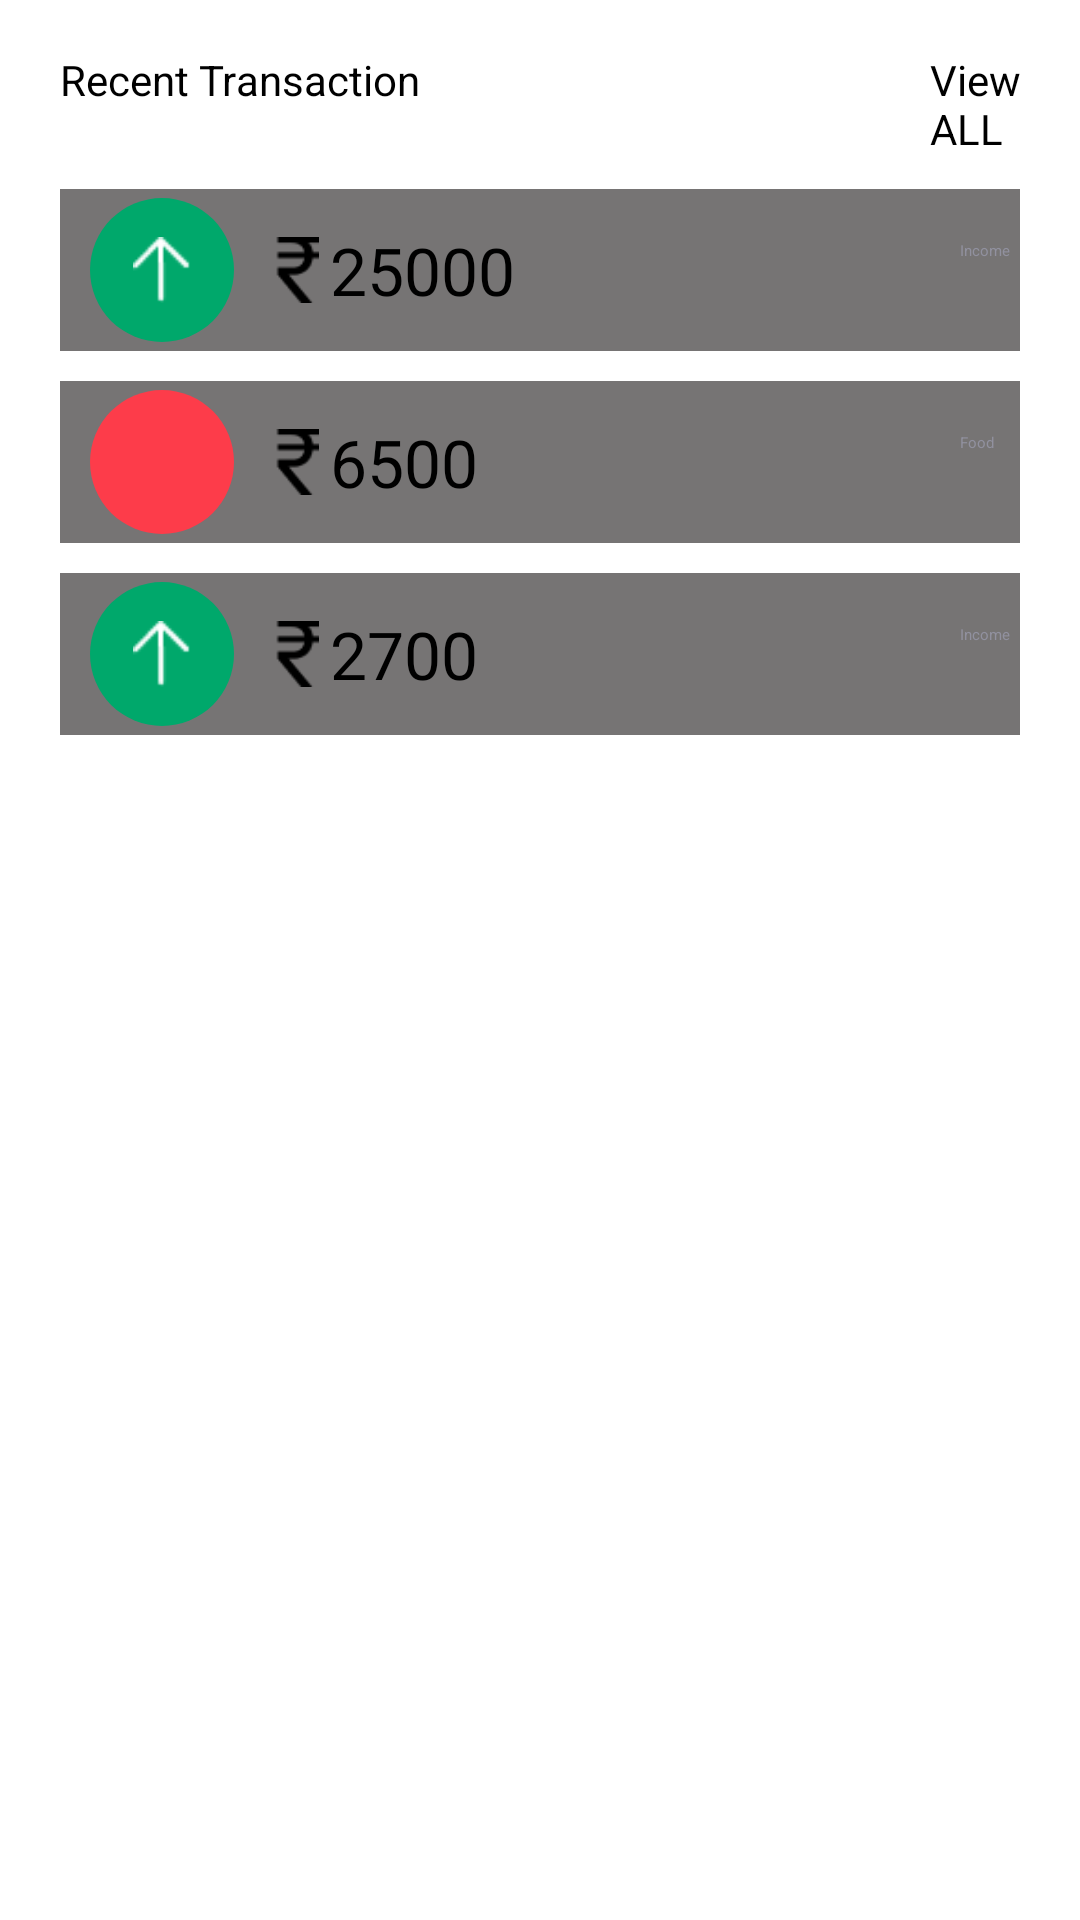

Screen size 1080px x 1920px. Icon name, then its box in pixels as bbox(x1, y1, x2, y2):
up arrow: bbox(133, 237, 190, 302), bbox(133, 621, 190, 686)
